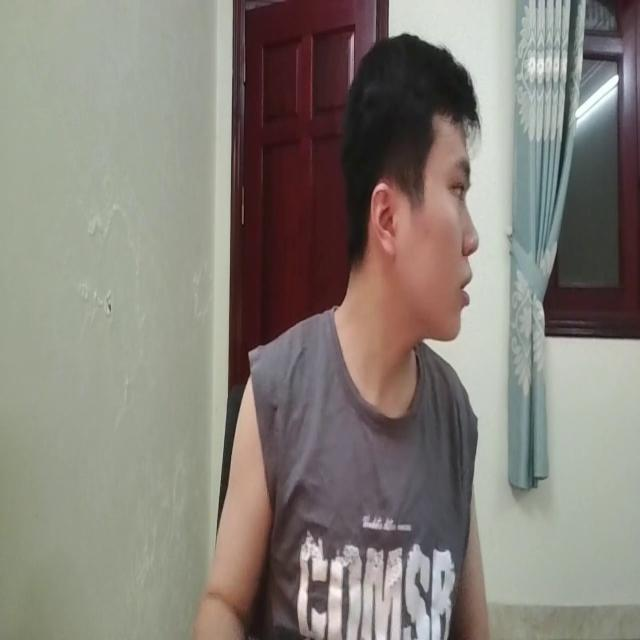student: (202, 50, 481, 640)
